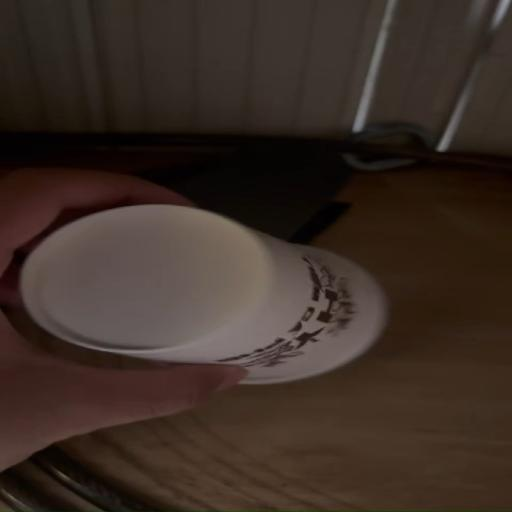Ly_giay: (19, 205, 385, 384)
